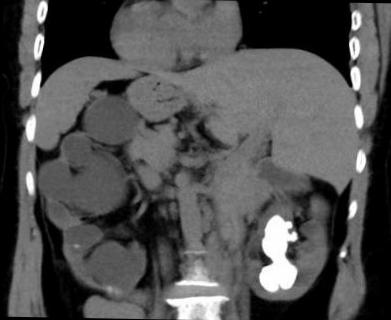Tas_Var: (254, 213, 308, 294)
